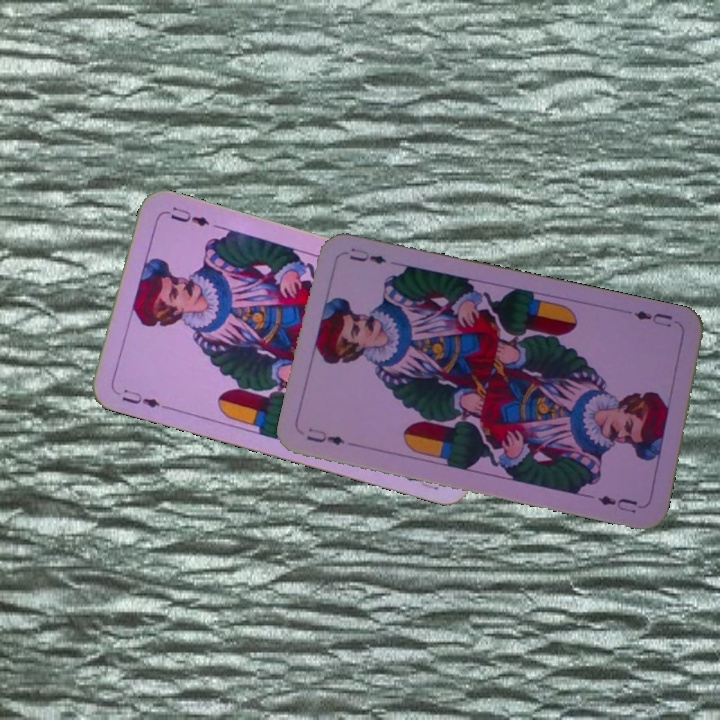EU: (111, 385, 163, 411), (630, 306, 675, 330), (303, 424, 347, 448)
